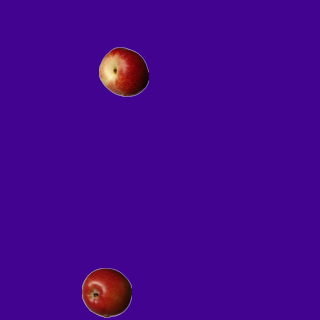Apple Braeburn: (81, 267, 131, 317)
Nectarine: (98, 46, 148, 96)
